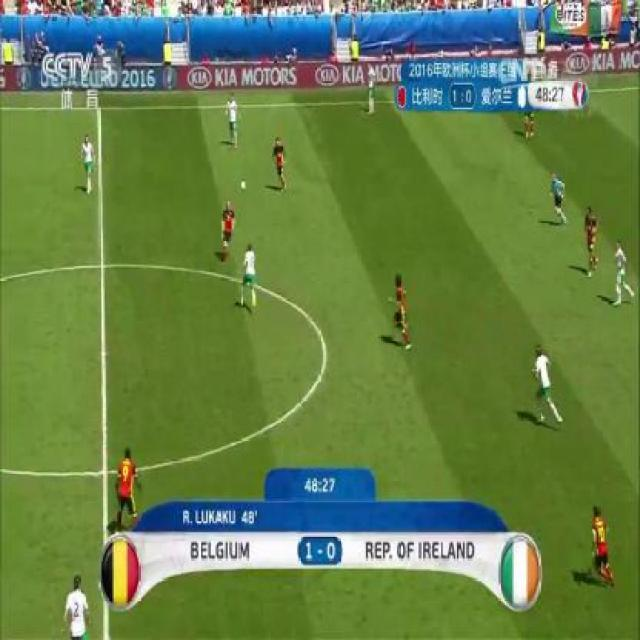football: (233, 180, 262, 197)
